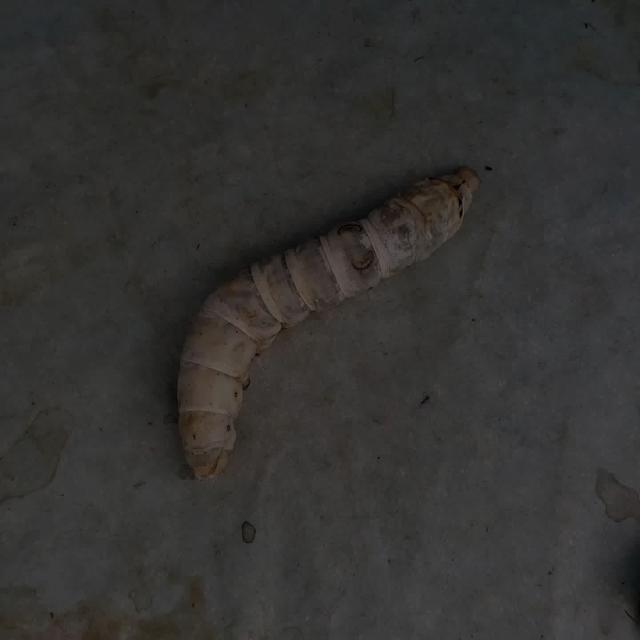Grasserie: (165, 143, 507, 512)
